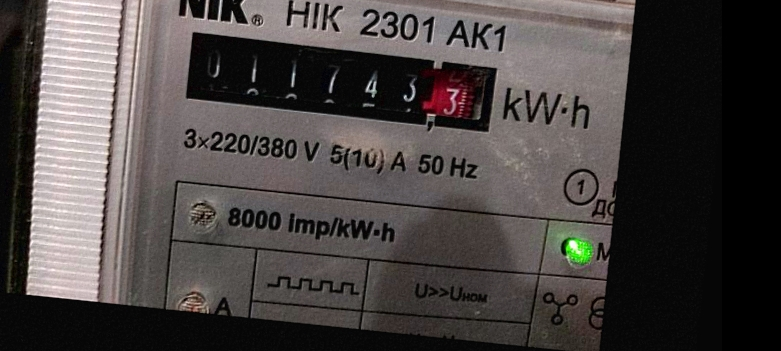0: (202, 45, 224, 83)
1: (284, 54, 303, 90), (248, 51, 261, 85)
3: (397, 69, 420, 106), (440, 86, 461, 120)
4: (361, 65, 381, 101)
7: (322, 60, 343, 96)
screen: (169, 19, 511, 147)
